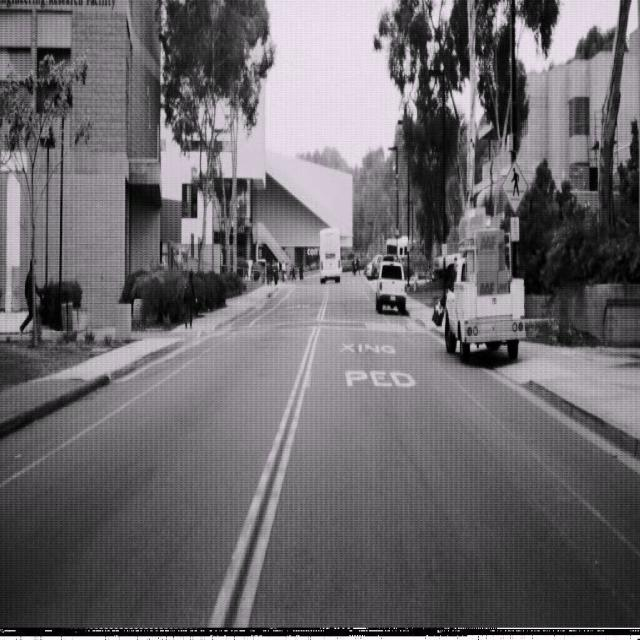pedestrianCrossing: (500, 157, 530, 213)
